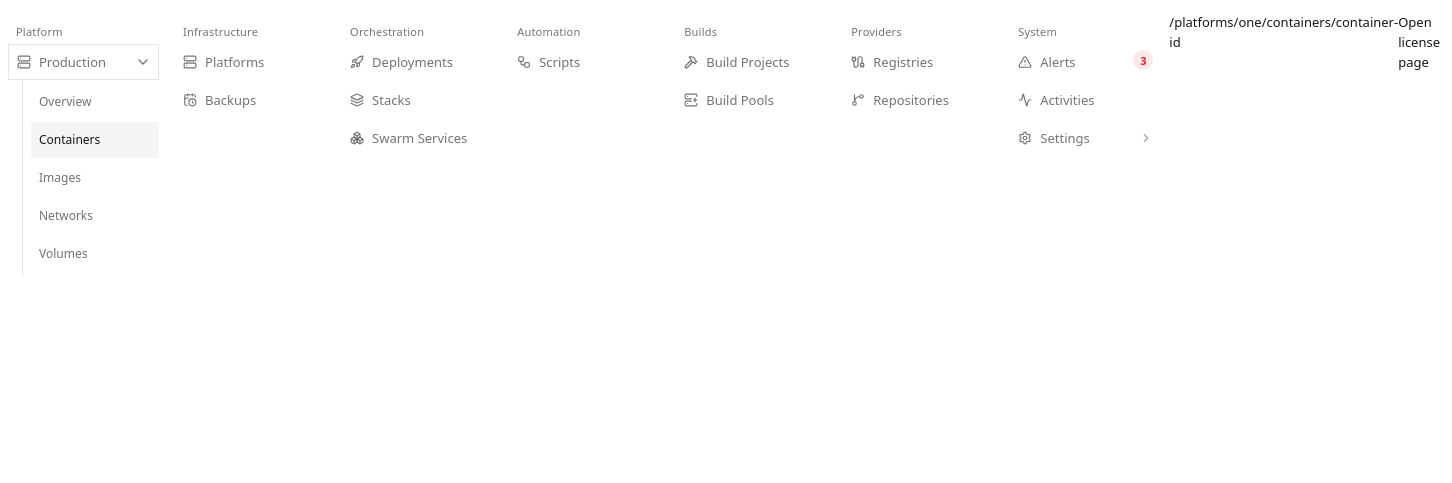
Test: keeps Containers selected on a container detail page and switches platform without accumulating menus
This screenshot has width=1452, height=483.
Click the button with aria-label "Switch platform: Production".
click(84, 62)  # box [8,44,159,80]
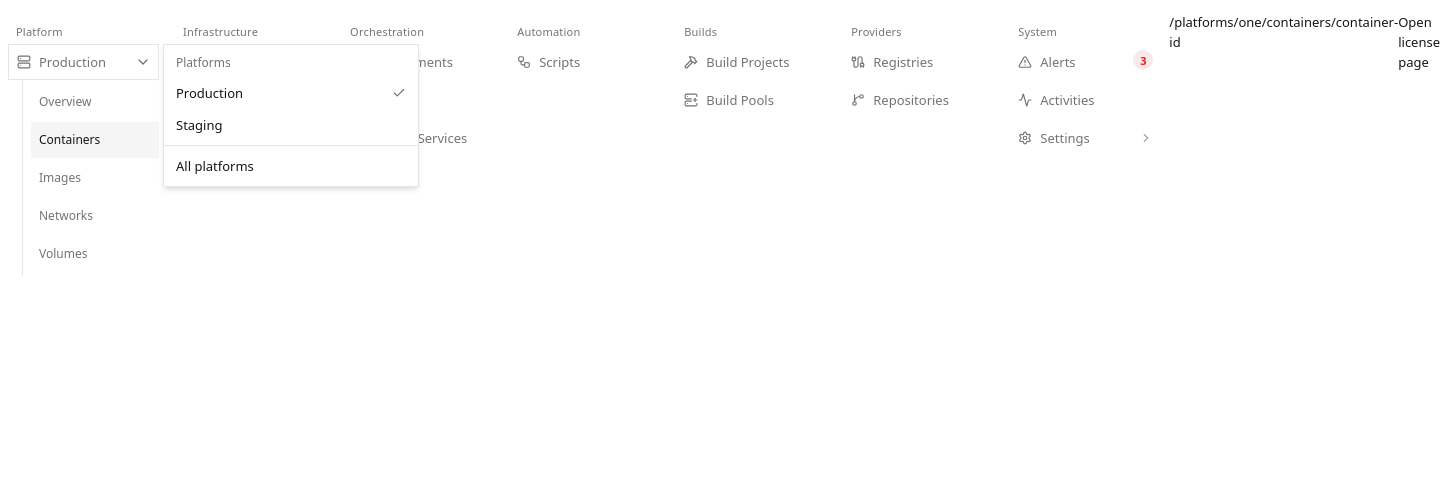
Click the menu item "Staging".
click(199, 125)  # box [176,116,222,134]
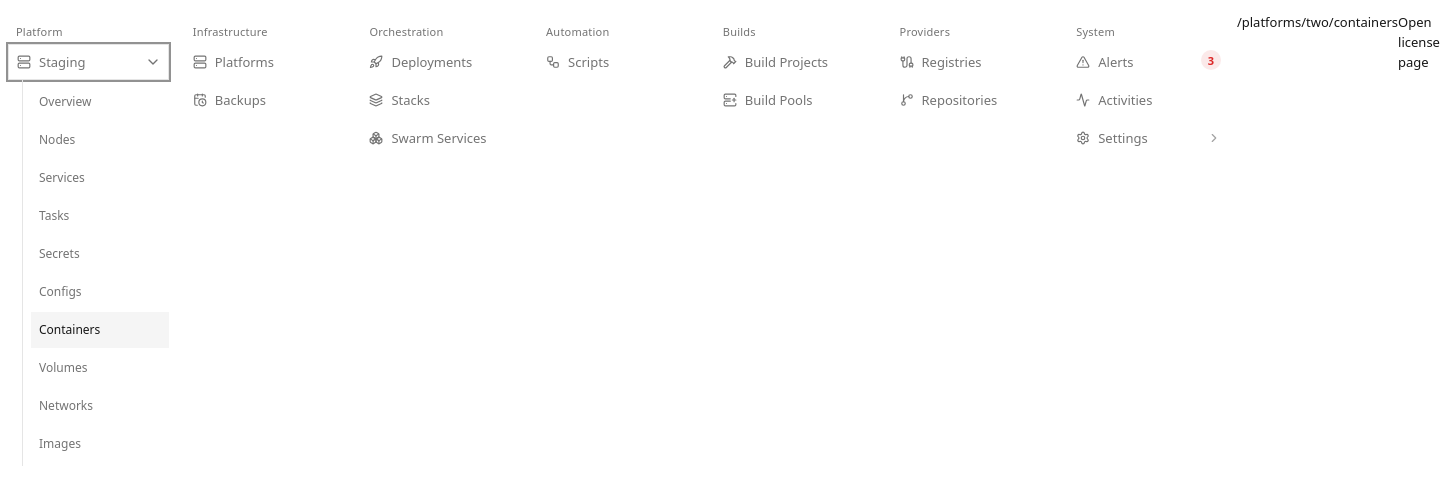
Now the text with test id "location" reads "/platforms/two/containers", box [1237,13,1398,31]
Now the button with aria-label "Switch platform: Staging" is shown, box [8,44,169,80]
Now the number of links "Containers" is 1, box [31,312,169,348]
